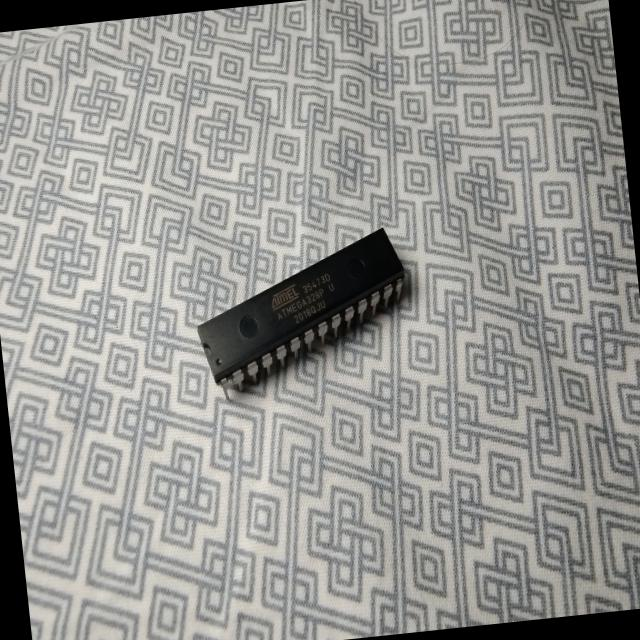atmega: (186, 222, 418, 404)
